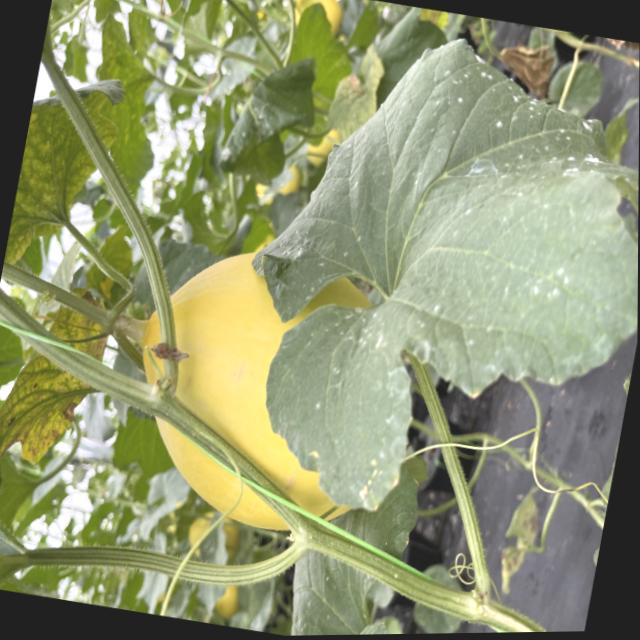alternaria leaf blight: (3, 91, 111, 279), (0, 298, 109, 471)
powdery mildew: (223, 29, 640, 561)
